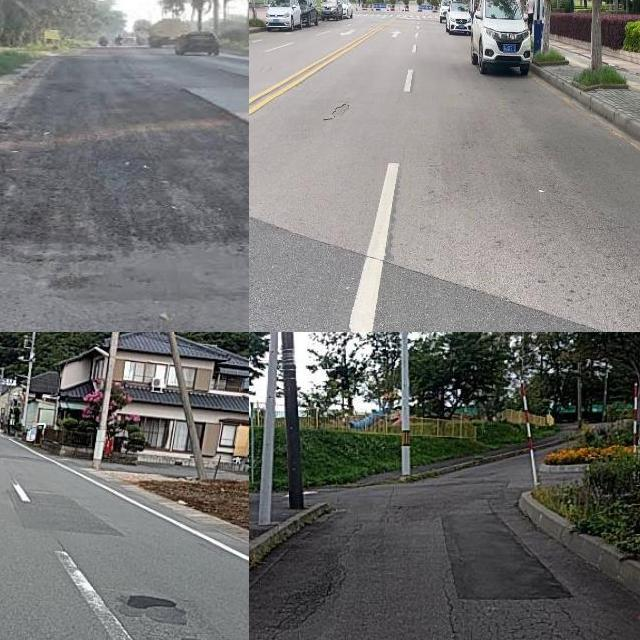Sambungan: (0, 46, 249, 263), (446, 504, 572, 605), (9, 491, 123, 534)
